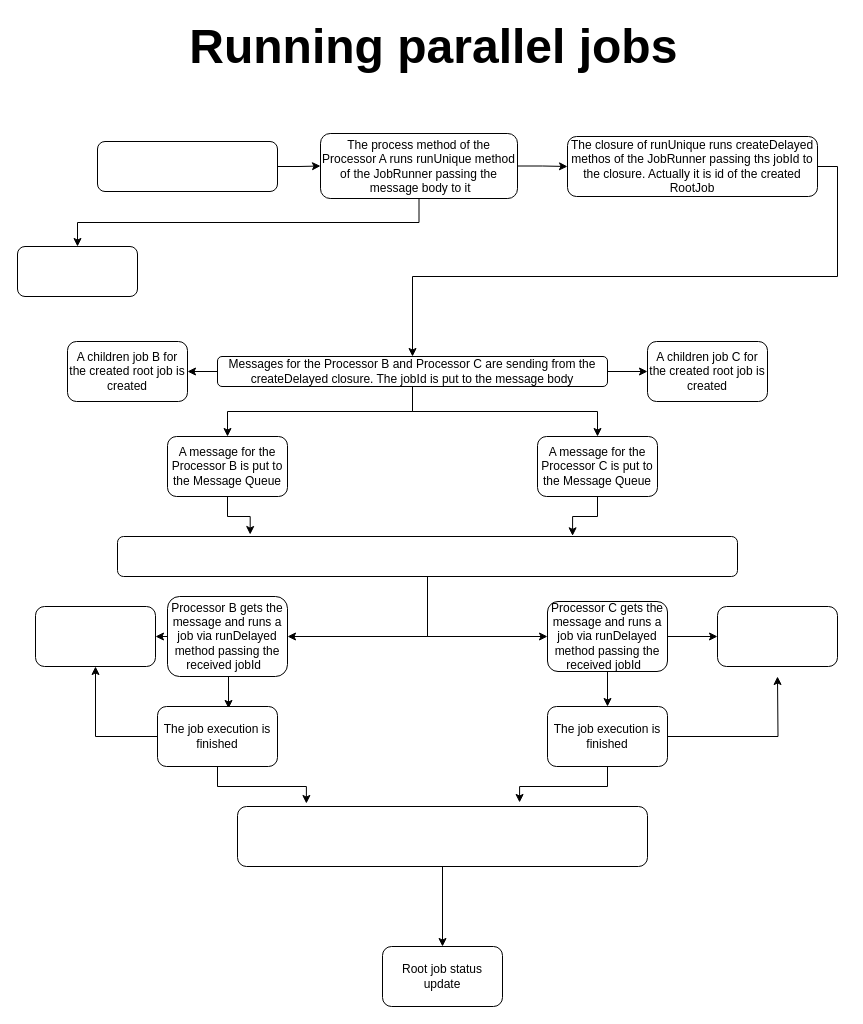
Image size: 863x1024. Some labels were removed from this diagram. The centre of each missing label's shape, as x and y in pixels:
"A root job is created in the db" goes at [77,271].
"All jobs are finished" goes at [442,836].
"Child job B status update" goes at [95,636].
"Child job C status update" goes at [777,636].
"Message Queue" goes at [427,556].
"Processor A injects JobRunner" goes at [187,166].
